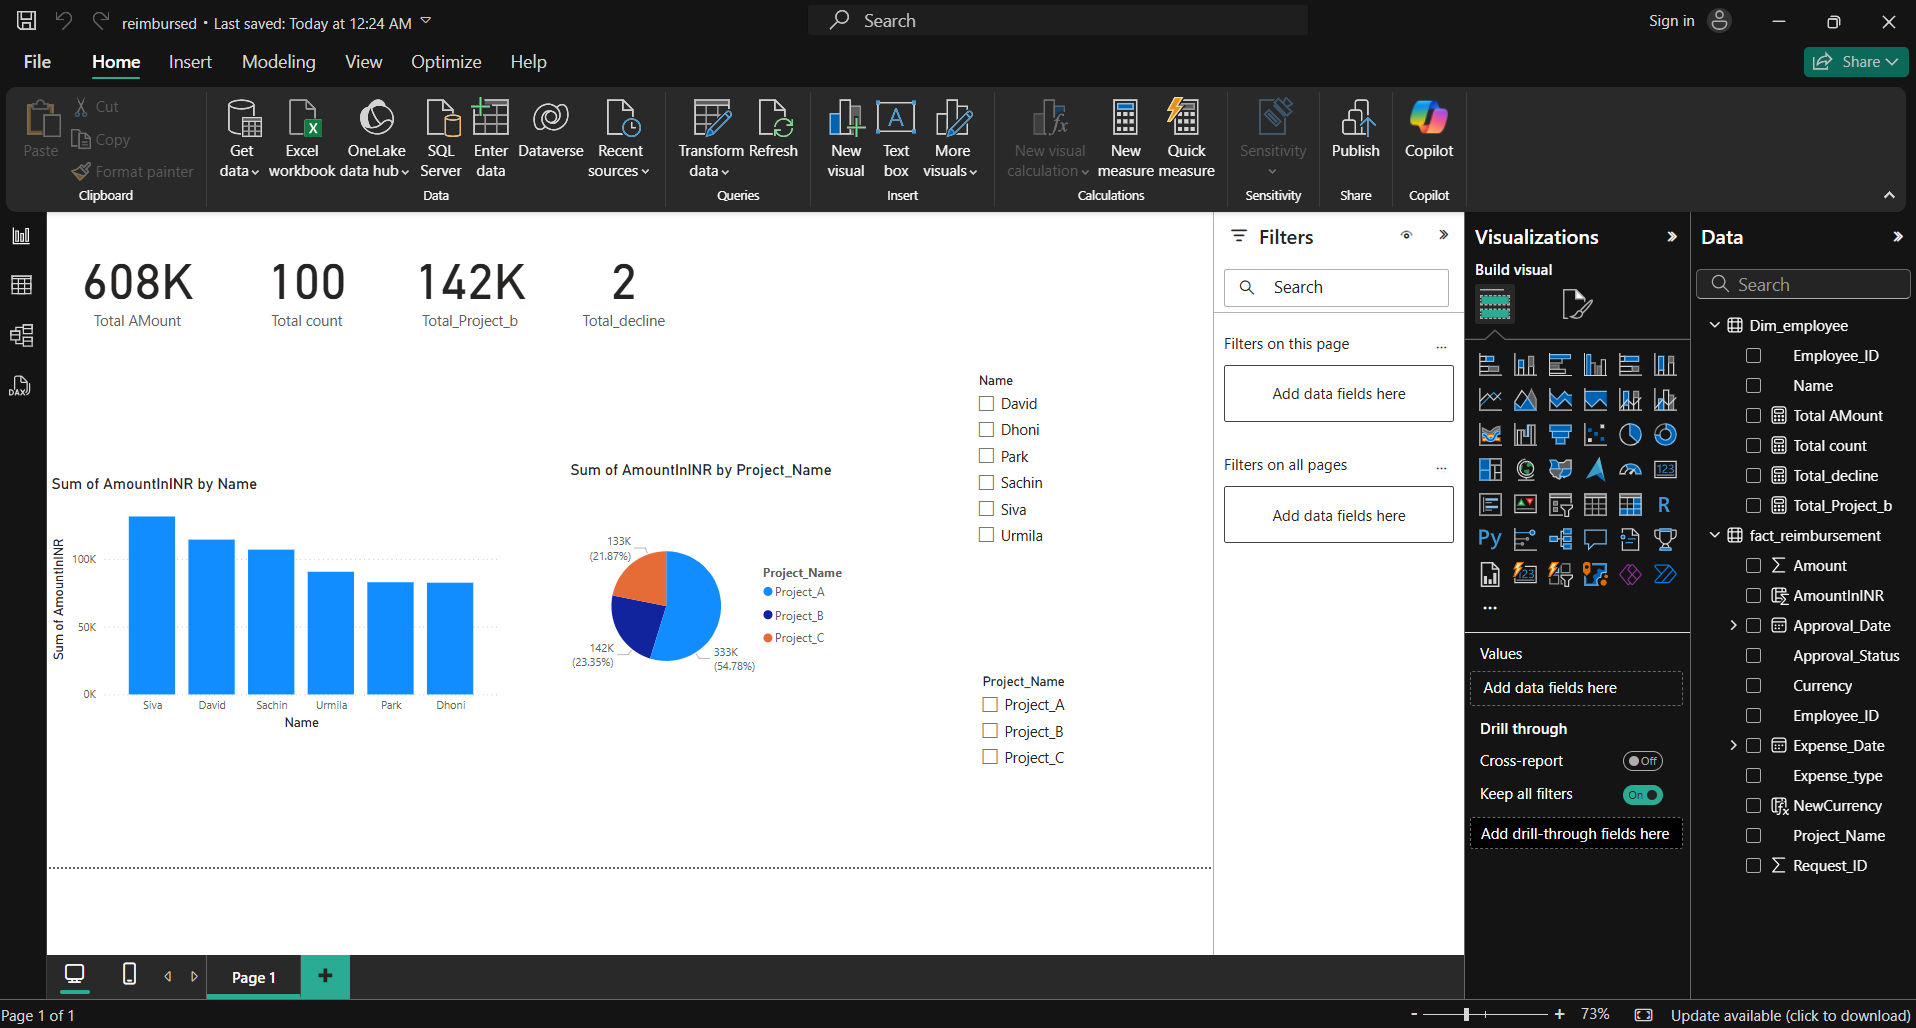

This screenshot's page, from the dashboard's own definition file:
{"tool":"powerbi","page":{"name":"Page 1","canvas":[1280,720],"ordinal":0},"visuals":[{"type":"card","fields":{"Values":["Dim_employee.Total AMount"]},"box":[0,0,199,160.5],"z":1},{"type":"card","fields":{"Values":["Dim_employee.Total count"]},"box":[199,0,172.9,160.5],"z":2},{"type":"card","fields":{"Values":["Dim_employee.Total_decline"]},"box":[557.1,6.9,152.3,148.2],"z":3},{"type":"card","fields":{"Values":["Dim_employee.Total_Project_b"]},"box":[371.9,0,185.2,160.5],"z":4},{"type":"slicer","fields":{"Values":["Dim_employee.Name"]},"box":[1010,171.5,270.3,231.9],"z":5},{"type":"slicer","fields":{"Values":["fact_reimbursement.Project_Name"]},"box":[1014.1,502.2,183.9,218.2],"z":6},{"type":"columnChart","fields":{"Category":["Dim_employee.Name"],"Y":["fact_reimbursement.AmountInINR"]},"box":[0,288.2,500.9,285.4],"z":7},{"type":"pieChart","fields":{"Category":["fact_reimbursement.Project_Name"],"Y":["fact_reimbursement.AmountInINR"]},"box":[569.5,273.1,325.2,300.5],"z":8}]}

Visuals, with their boxes on the page's 1280x720 design canvas (x1, y1, x2, y2). These are canvas units, not pixel positions in the 1916x1028 screenshot, which may show the page scaled, cropped or inside an application window:
card - Dim_employee.Total AMount: 0,0,199,160
card - Dim_employee.Total count: 199,0,372,160
card - Dim_employee.Total_decline: 557,7,709,155
card - Dim_employee.Total_Project_b: 372,0,557,160
slicer - Dim_employee.Name: 1010,172,1280,403
slicer - fact_reimbursement.Project_Name: 1014,502,1198,720
columnChart - Dim_employee.Name x fact_reimbursement.AmountInINR: 0,288,501,574
pieChart - fact_reimbursement.Project_Name x fact_reimbursement.AmountInINR: 570,273,895,574
